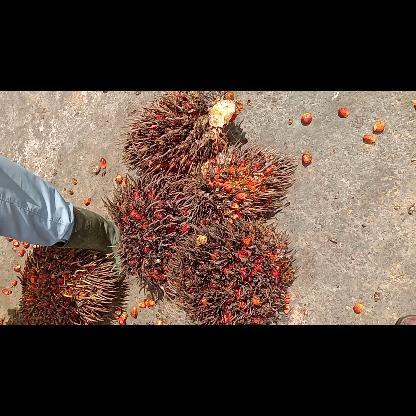Terlalu masak: (99, 165, 224, 292), (163, 218, 301, 324), (116, 91, 246, 181), (181, 136, 299, 226)
